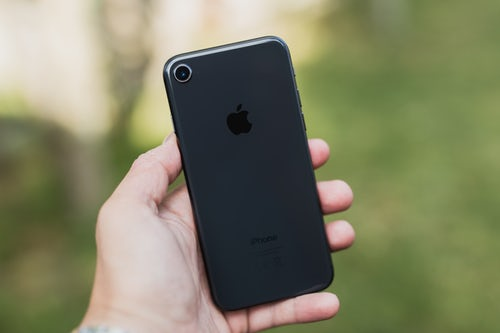phone: (163, 39, 339, 305)
